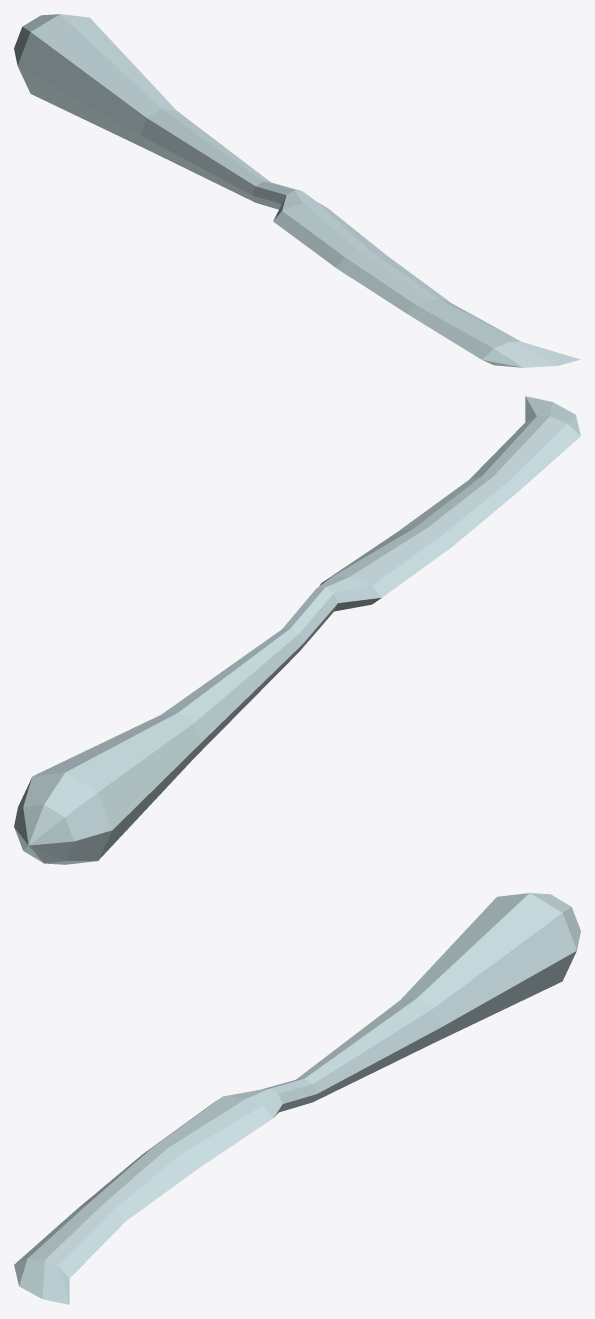
The model's file is Butterknife.fbx.
3 renders of one model, top to bottom at view 1: azimuth 30°, elevation 25°; view 2: azimuth 150°, elevation 25°; view 3: azimuth 330°, elevation 25°, orthographic. The views are drawn at different scales.
Visible parts, largest first — view 1: Butterknife; view 2: Butterknife; view 3: Butterknife.
Part boxes in pixels (x1,y1,x2,y2): Butterknife: (14, 14, 580, 367); Butterknife: (14, 396, 580, 864); Butterknife: (14, 893, 580, 1304).
Size of the model in its own units: 2.38 by 1.97 by 21.59.
